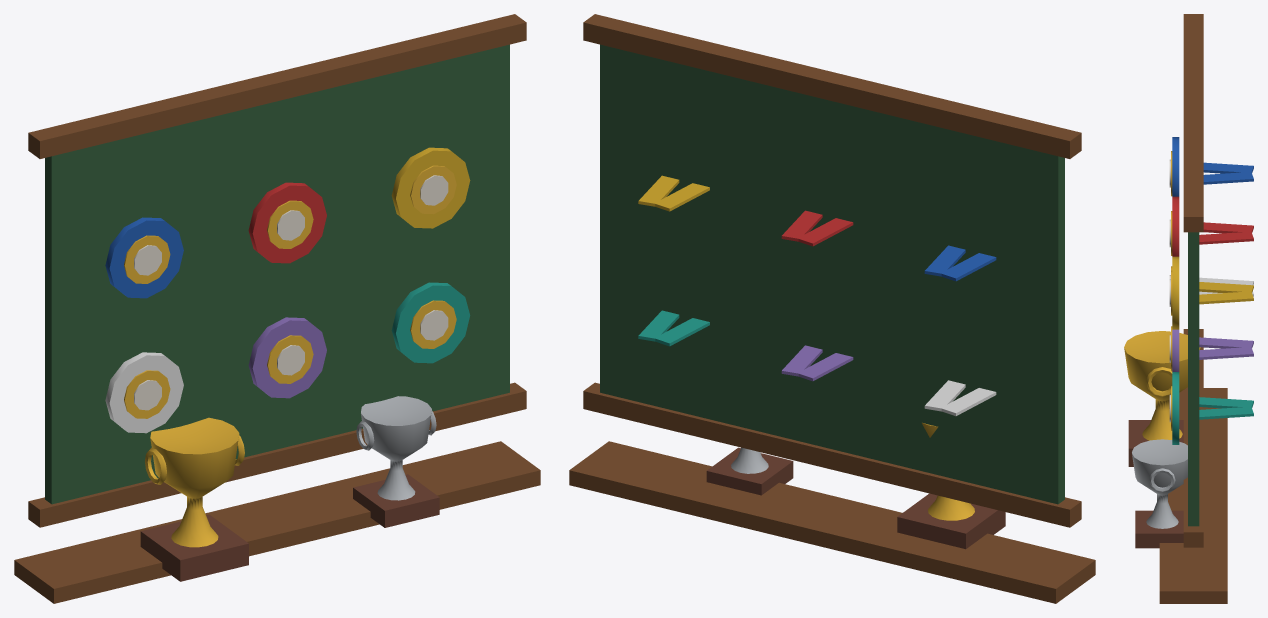
File: ribbon_wall.glb
The picture shows the model from 3 angles, left to right: view 1: azimuth 30°, elevation 25°; view 2: azimuth 150°, elevation 25°; view 3: azimuth 270°, elevation 25°; orthographic projection. The views are drawn at different scales.
Parts seen in each view (by area): view 1: furniture-ribbon_wall; view 2: furniture-ribbon_wall; view 3: furniture-ribbon_wall.
Part boxes in pixels (x1,y1,x2,y2): furniture-ribbon_wall: (14, 14, 540, 603); furniture-ribbon_wall: (569, 14, 1095, 603); furniture-ribbon_wall: (1124, 14, 1253, 603).
Bounding box in the file's own units: 1.7 × 1.51 × 0.4593.
